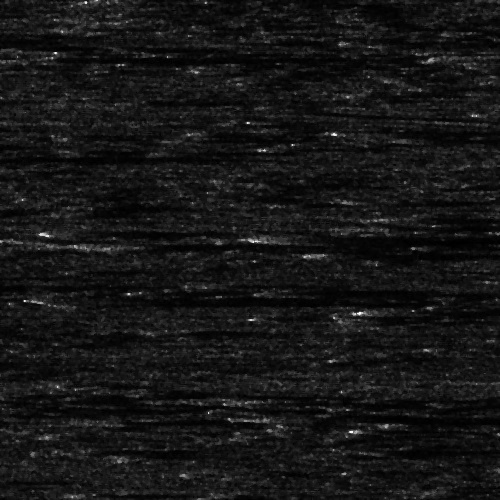object: (312, 218, 437, 231), (335, 211, 480, 222), (333, 303, 438, 316), (63, 239, 156, 252), (393, 54, 500, 63), (449, 359, 500, 376), (262, 233, 335, 242), (312, 131, 405, 138), (0, 54, 75, 61), (305, 250, 368, 255), (256, 414, 319, 419), (83, 295, 114, 302)
shadow: (109, 239, 500, 252), (0, 150, 247, 159), (34, 54, 325, 61), (299, 233, 500, 242), (375, 218, 500, 231), (386, 303, 500, 316), (288, 414, 500, 419), (408, 211, 500, 222), (359, 131, 500, 138), (336, 250, 500, 255), (0, 279, 92, 286), (72, 228, 223, 231), (99, 295, 148, 302)
